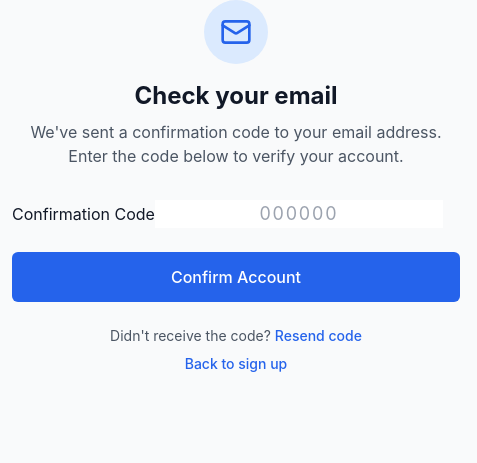
Test: ConfirmSignUpForm › resends confirmation code
This screenshot has width=477, height=463.
Step 1. Click the button "Resend code" → (318, 336), box [275, 326, 362, 346]
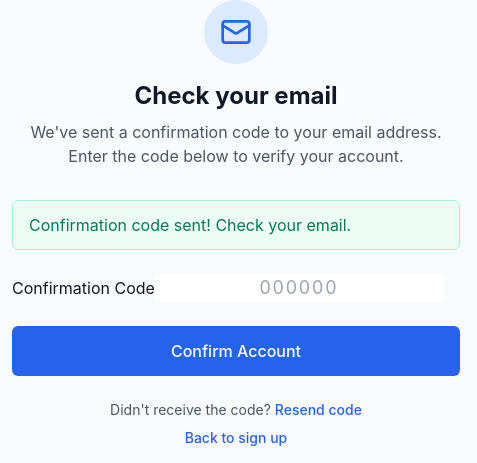
Expected: the text "Confirmation code sent! Check your email." is shown, [12, 200, 460, 250]
